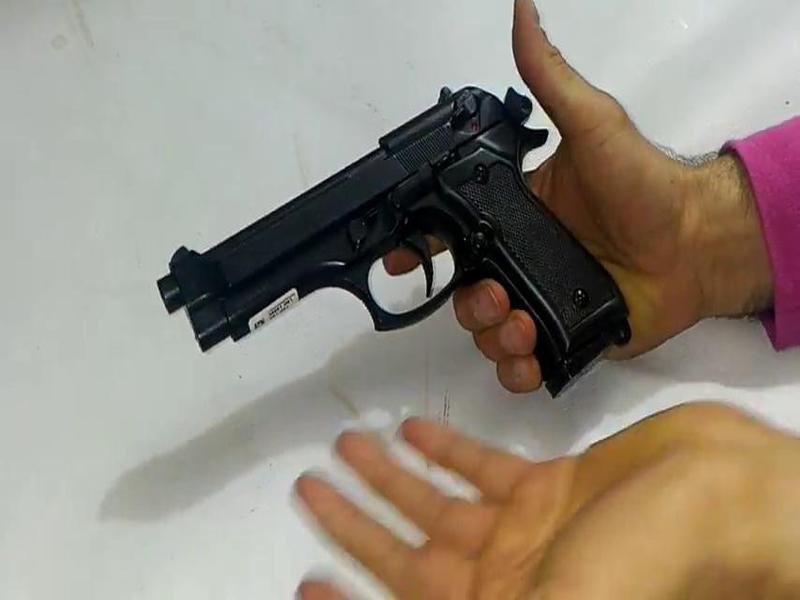Pistola: (166, 80, 607, 384)
